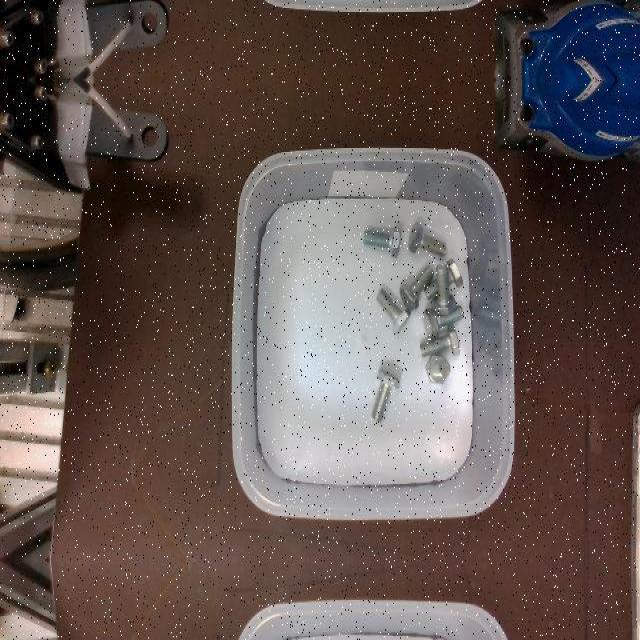screw: (375, 287, 411, 333), (399, 264, 434, 310), (371, 369, 400, 421), (419, 323, 459, 357), (408, 221, 446, 255), (431, 263, 456, 313), (363, 226, 401, 258), (425, 353, 449, 383)
